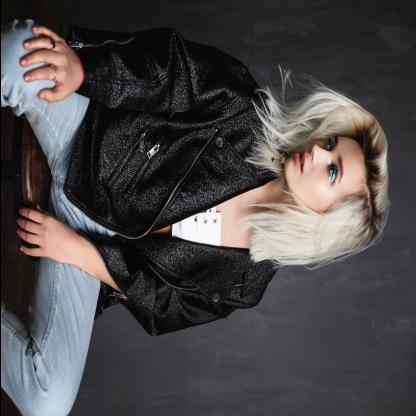Eye: (325, 158, 338, 188), (322, 130, 334, 156)
Mouth: (291, 148, 309, 177)
Nose: (308, 144, 330, 170)
